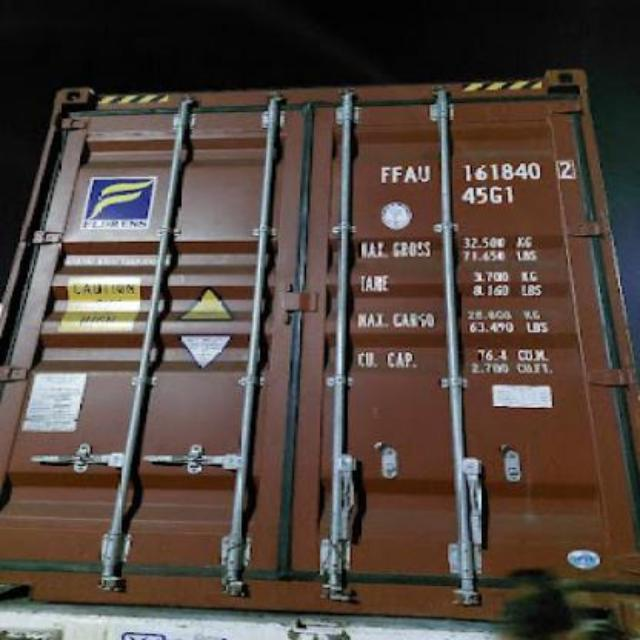0: (526, 157, 540, 183)
1: (458, 160, 474, 183), (490, 159, 500, 183)
2: (554, 156, 576, 182)
4: (512, 159, 530, 183)
6: (472, 152, 490, 182)
8: (500, 159, 512, 183)
A: (404, 156, 416, 188)
F: (388, 160, 402, 188), (378, 160, 390, 188)
U: (416, 158, 429, 186)
